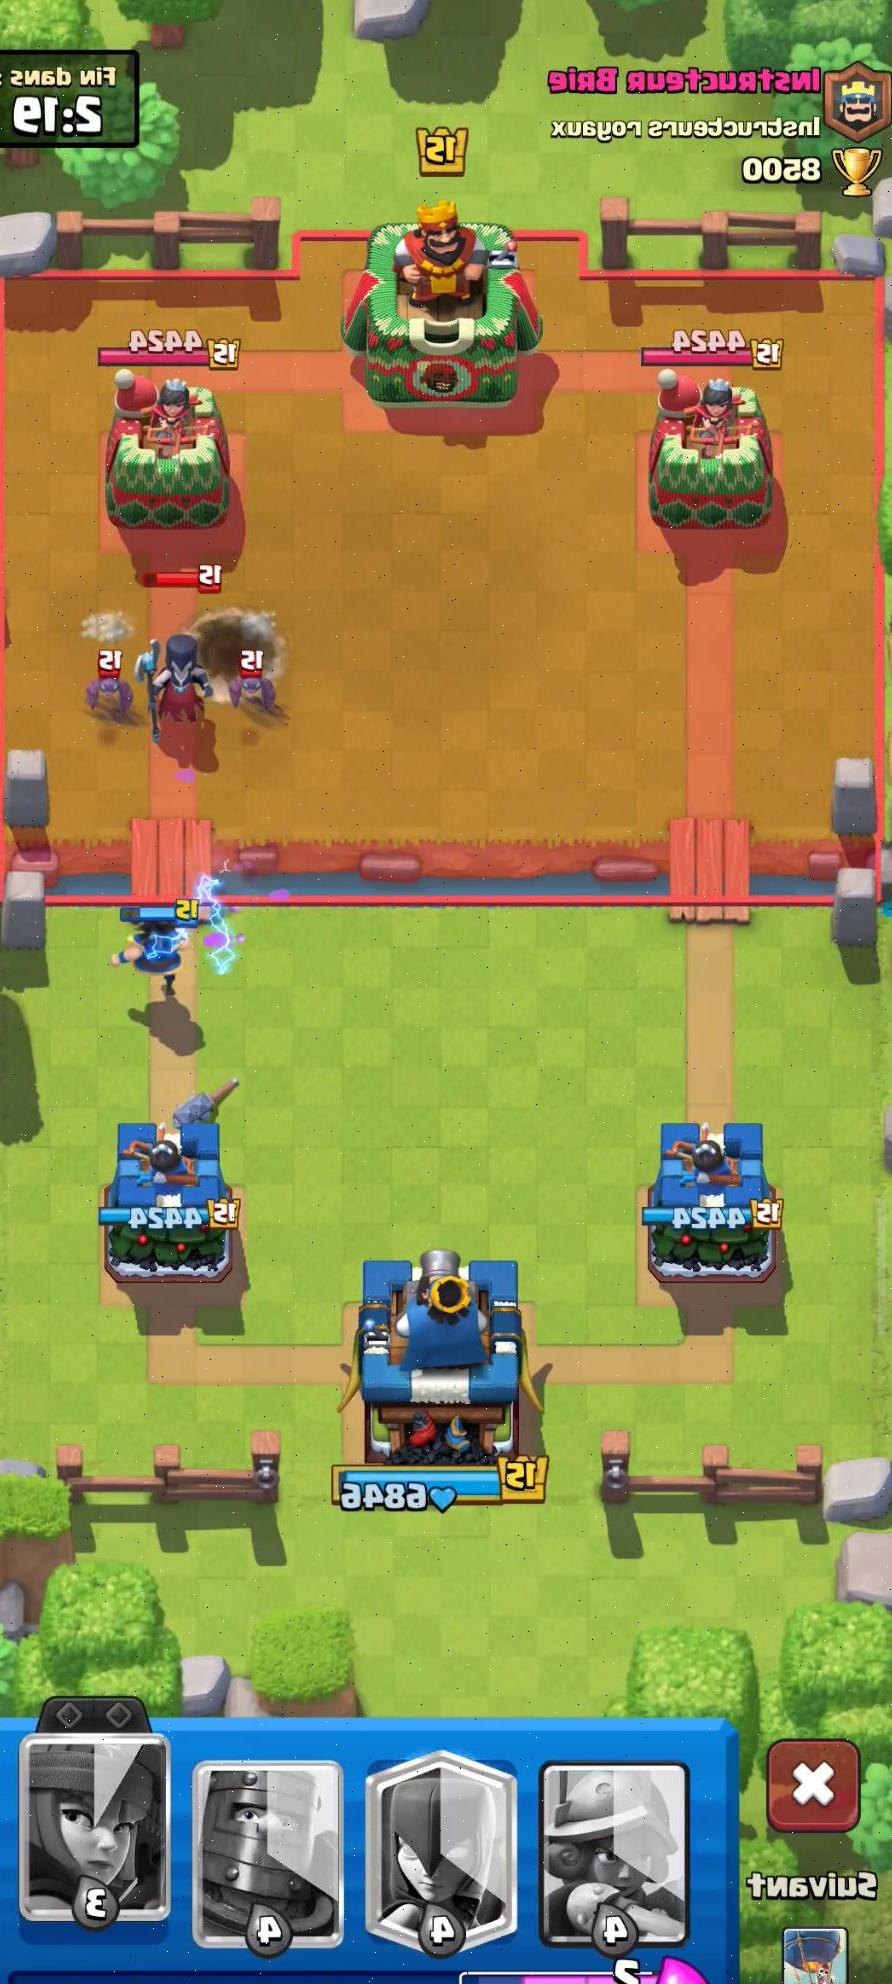enemy_bats: (219, 645, 286, 719), (78, 644, 142, 719)
enemy_night_witch: (136, 618, 220, 731)
player_electro_wizard: (96, 880, 231, 1012)
